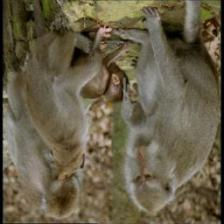monkey: (127, 123, 181, 211)
